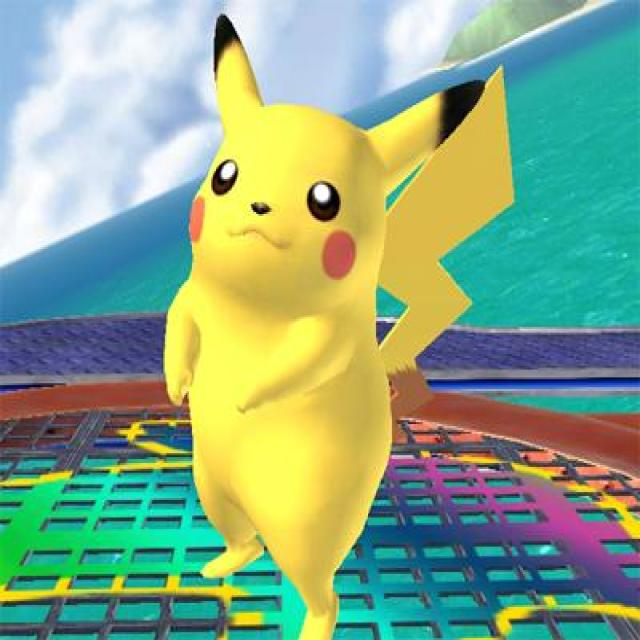pikachu: (164, 15, 515, 640)
